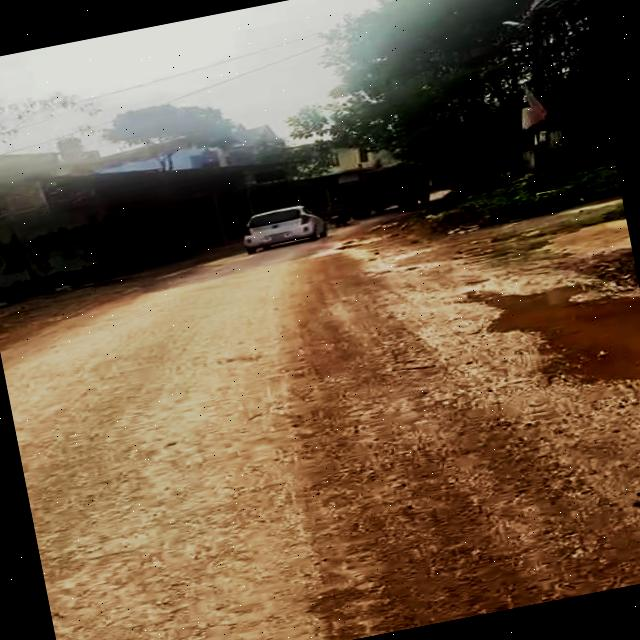pothole: (449, 256, 640, 433)
